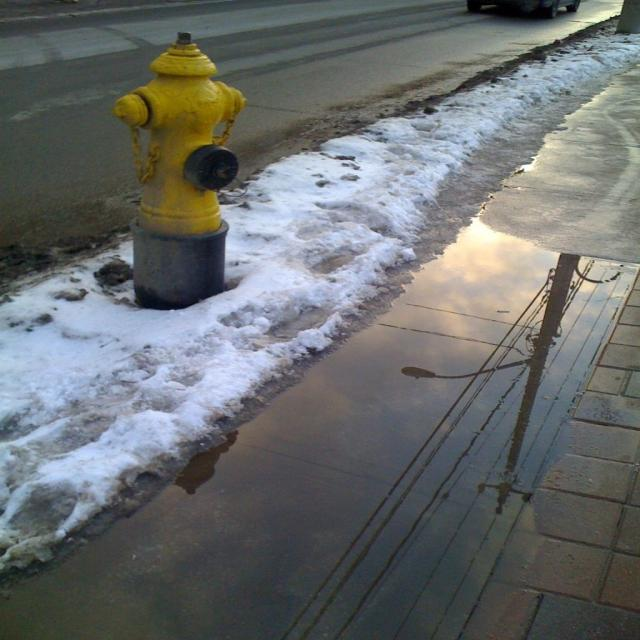fire_hydrant: (114, 32, 244, 306)
